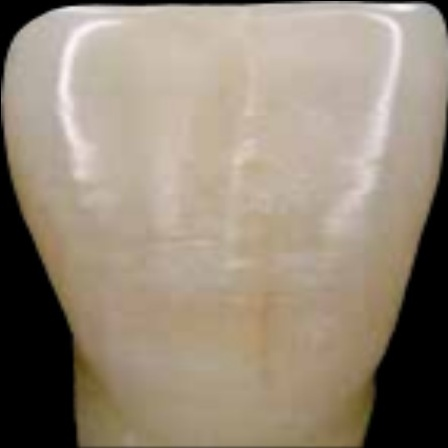coin_1: (371, 375, 391, 395)
coin_2: (431, 202, 448, 222)
coin_3: (75, 336, 95, 356)
coin_4: (20, 212, 40, 232)
